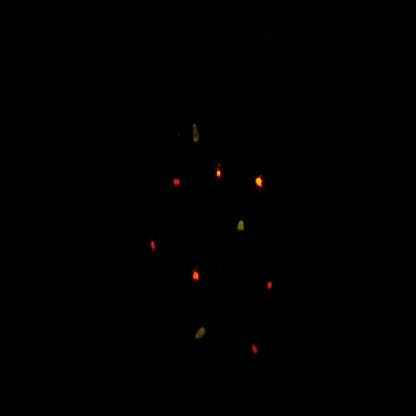PET: (260, 267, 282, 301), (248, 333, 263, 366), (147, 233, 161, 260), (172, 170, 186, 196)
PP: (229, 208, 254, 250), (189, 315, 215, 355), (185, 115, 209, 154)
PVC: (249, 167, 272, 202), (210, 157, 231, 191), (187, 261, 206, 295)
